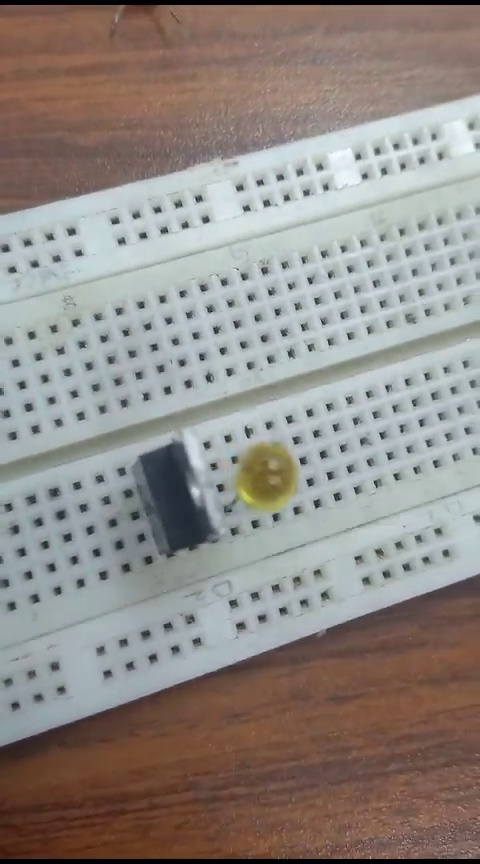LED: (232, 443, 295, 508)
voltage regulator: (131, 433, 215, 553)
